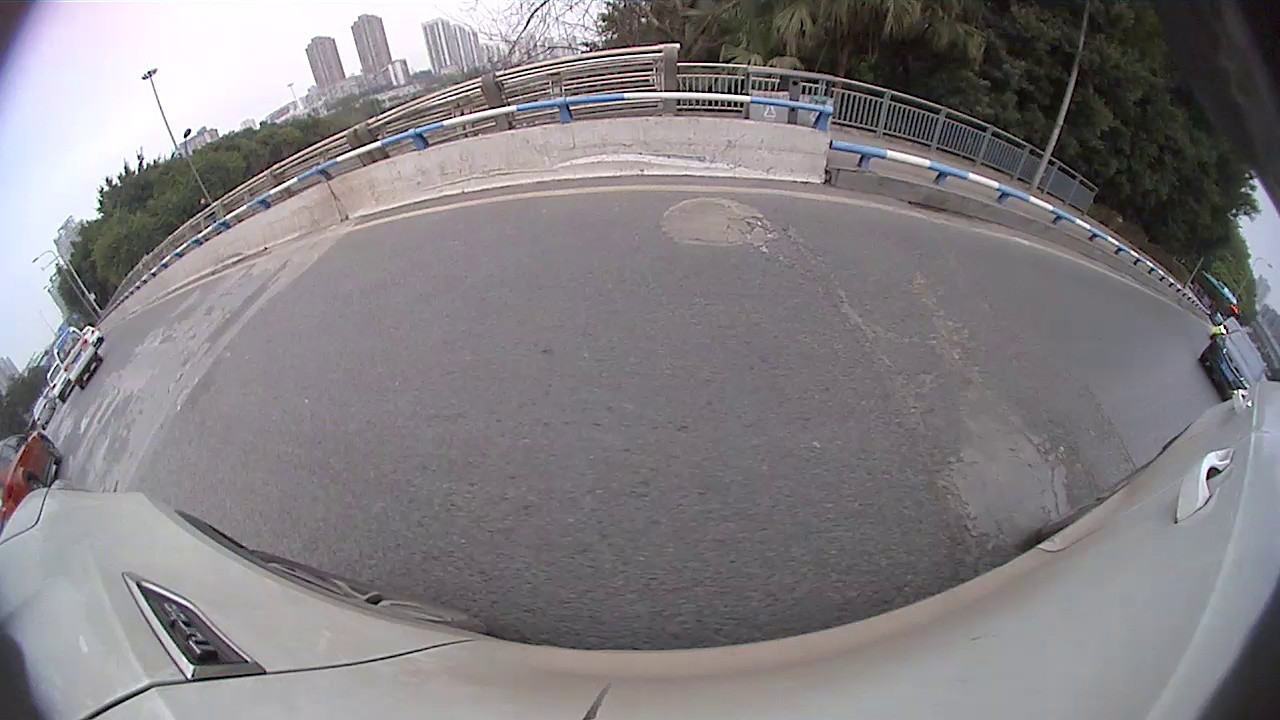car: (0, 431, 64, 538), (1198, 328, 1268, 403), (51, 326, 104, 390), (45, 360, 77, 405), (80, 324, 105, 351)
front: (43, 437, 66, 464), (1193, 346, 1217, 368)
rear: (25, 472, 49, 497)
